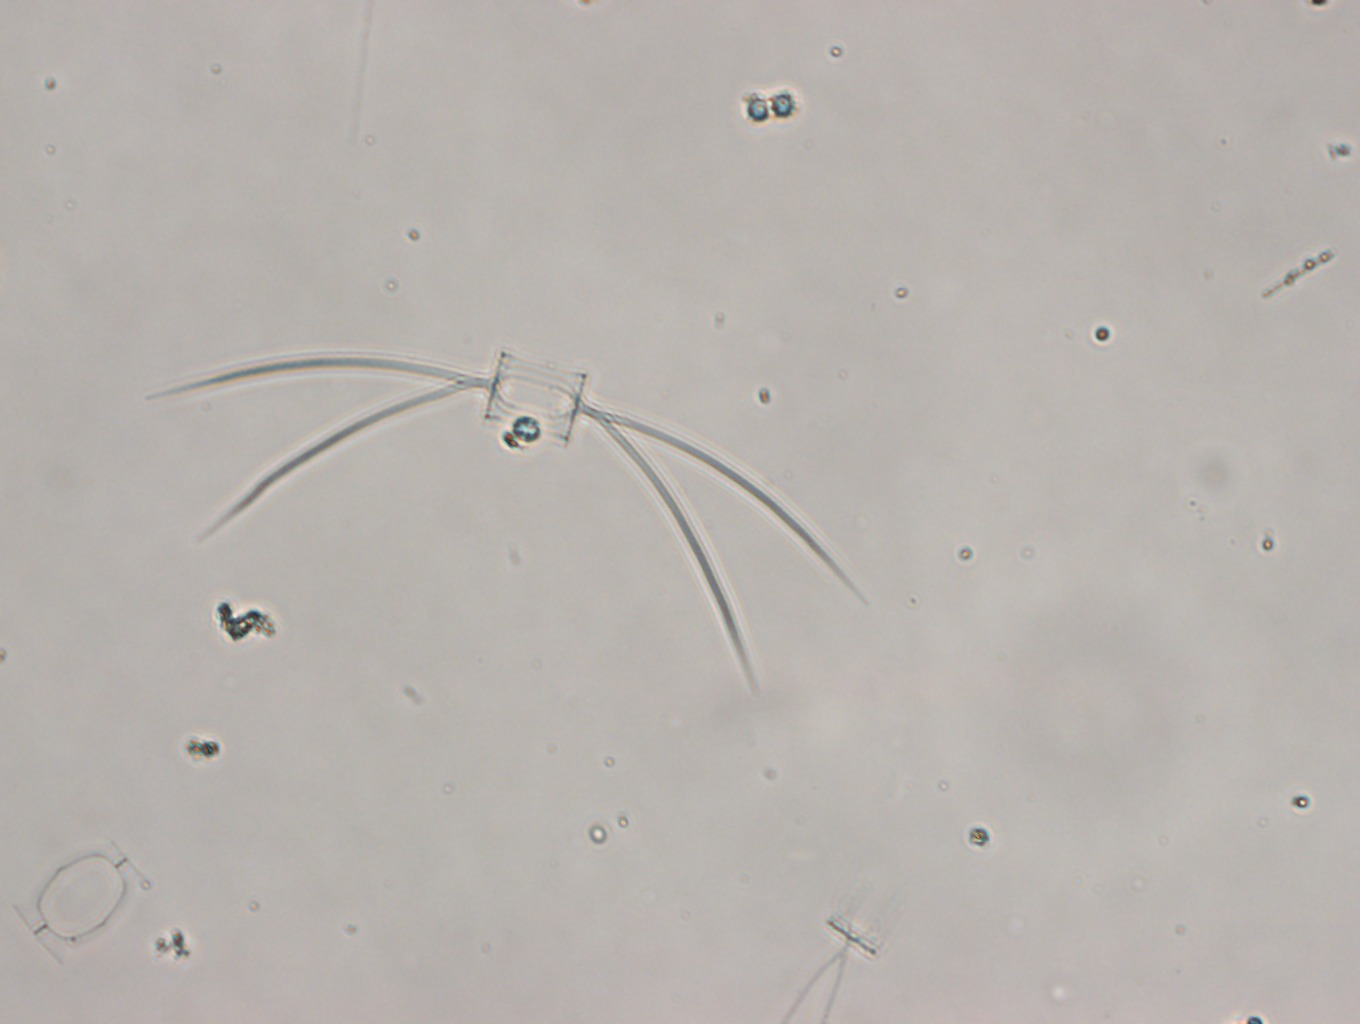chaetoceros: (139, 349, 867, 705)
